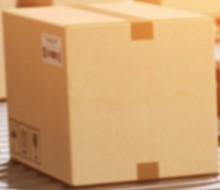stock: (3, 2, 218, 187)
